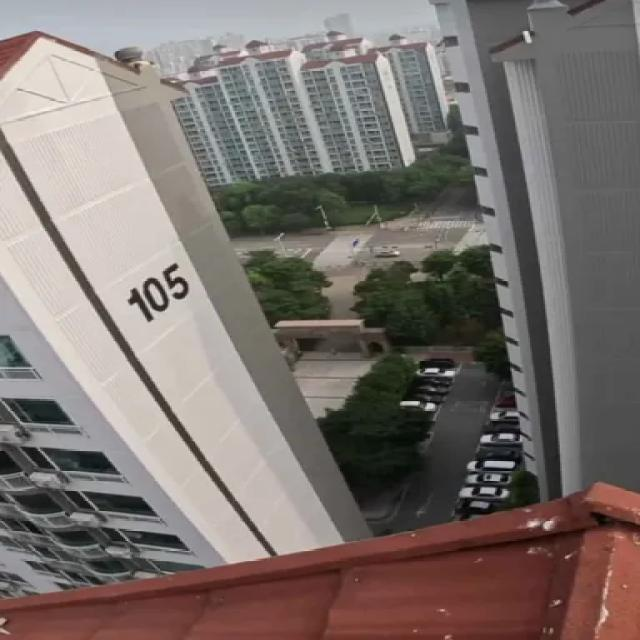car: (456, 487, 511, 501), (467, 459, 517, 474), (452, 500, 502, 514), (475, 448, 521, 463), (463, 473, 512, 487), (480, 433, 525, 446), (420, 357, 457, 370), (398, 400, 438, 412), (447, 513, 490, 524), (409, 383, 452, 394), (481, 423, 522, 434), (411, 376, 452, 387), (409, 392, 445, 404), (489, 409, 522, 421), (415, 368, 455, 377), (372, 249, 401, 258), (492, 395, 515, 406)
